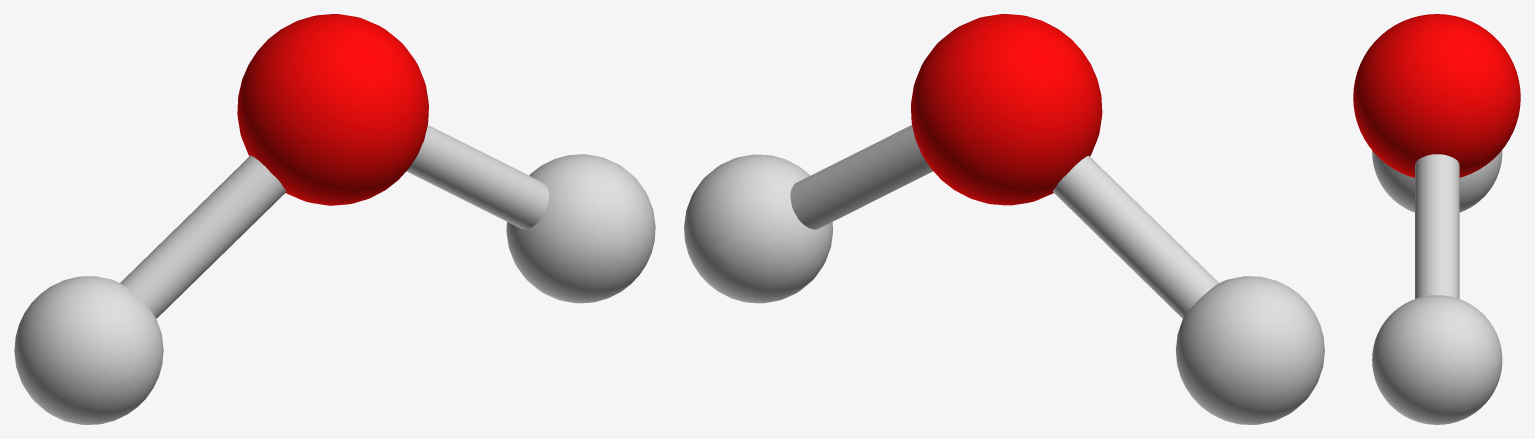
File: Water.dae
3 views of the same model, side by side, from view 1: azimuth 30°, elevation 25°; view 2: azimuth 150°, elevation 25°; view 3: azimuth 270°, elevation 25° (orthographic). The views are drawn at different scales.
Visible parts, largest first — view 1: _01_Saturated__Isobutane_Butane__Isobutane_pSphere33_Water__ (×4), _01_Saturated__Isobutane_Butane__Isobutane_pSphere33_Water; view 2: _01_Saturated__Isobutane_Butane__Isobutane_pSphere33_Water__ (×4), _01_Saturated__Isobutane_Butane__Isobutane_pSphere33_Water; view 3: _01_Saturated__Isobutane_Butane__Isobutane_pSphere33_Water__ (×3), _01_Saturated__Isobutane_Butane__Isobutane_pSphere33_Water.
Boxes of the visible parts, box(x1,y1,x2,y2) form: _01_Saturated__Isobutane_Butane__Isobutane_pSphere33_Water__ (×4): box(14, 125, 655, 424); _01_Saturated__Isobutane_Butane__Isobutane_pSphere33_Water: box(237, 14, 428, 205); _01_Saturated__Isobutane_Butane__Isobutane_pSphere33_Water__ (×4): box(684, 125, 1324, 424); _01_Saturated__Isobutane_Butane__Isobutane_pSphere33_Water: box(911, 14, 1102, 205); _01_Saturated__Isobutane_Butane__Isobutane_pSphere33_Water__ (×3): box(1372, 150, 1502, 424); _01_Saturated__Isobutane_Butane__Isobutane_pSphere33_Water: box(1353, 14, 1520, 177).
Size of the model in its own units: 8.49 by 2.27 by 4.38.
